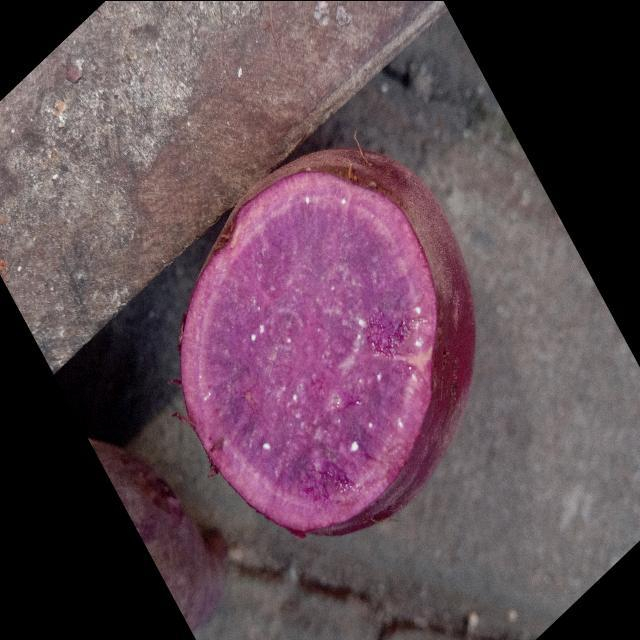Healthy Sweet Potato: (180, 170, 436, 532)
